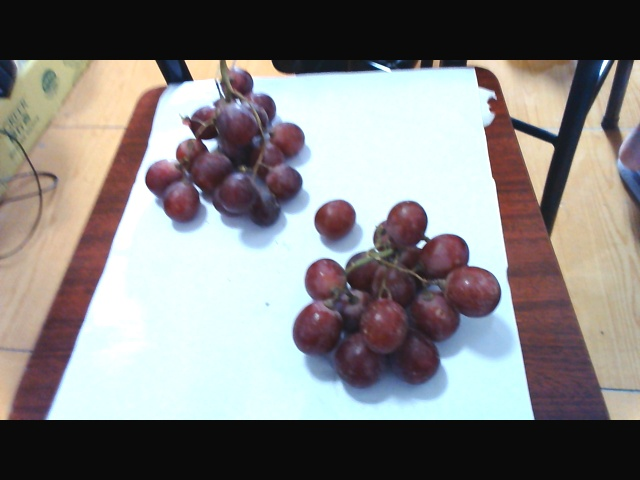grape: (299, 195, 499, 399), (146, 80, 312, 243)
